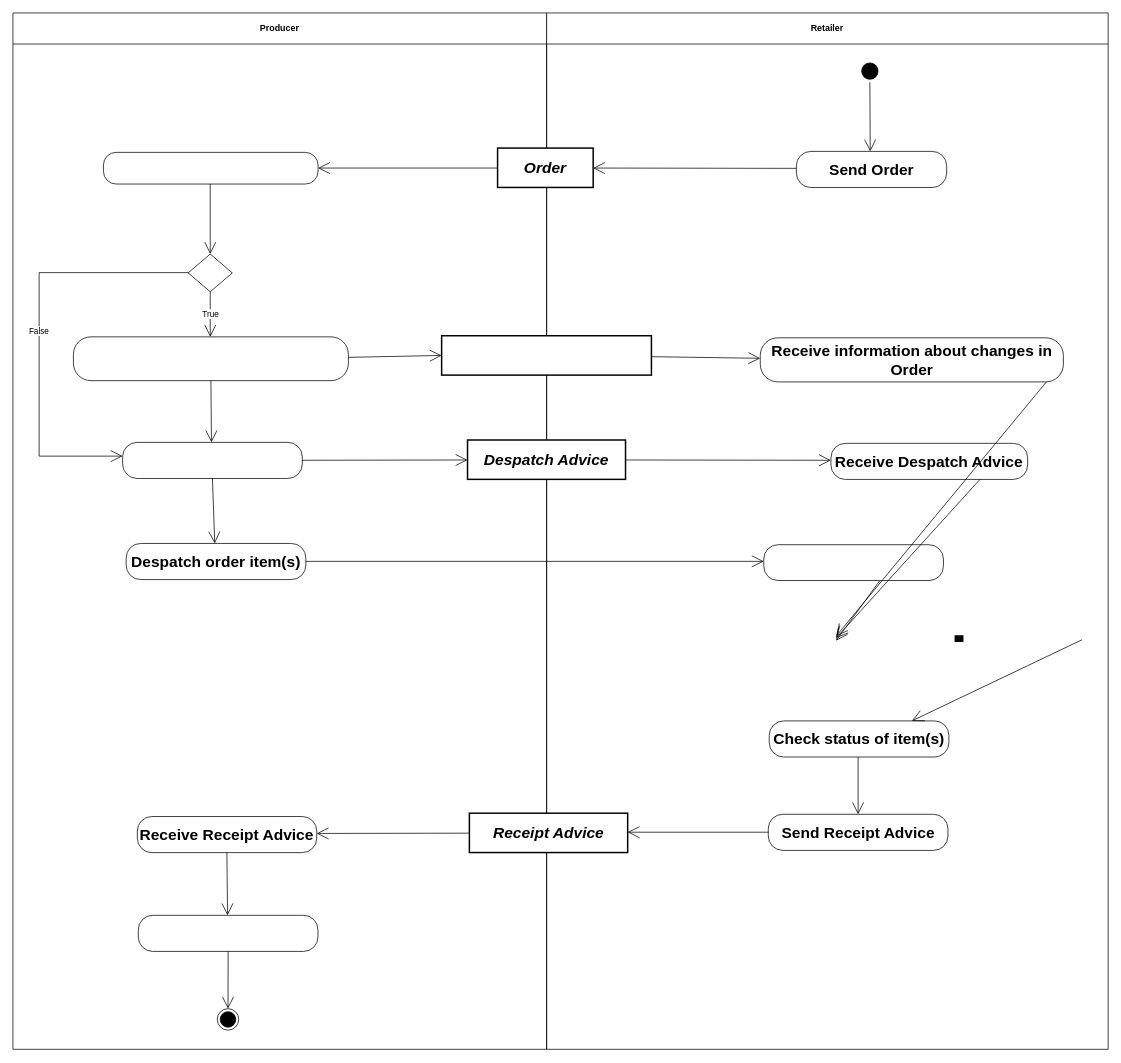
Image size: 1121x1063. Some labels were removed from this diagram. Each missing label, with the centre of its shape:
"Adjust supply status" goes at [228,933].
"Order Response" goes at [546,355].
"Receive Order" goes at [210,168].
"Receive order item(s)" goes at [853,562].
"Send Despatch Advice" goes at [212,460].
"Send information about changes in Order" goes at [210,358].
